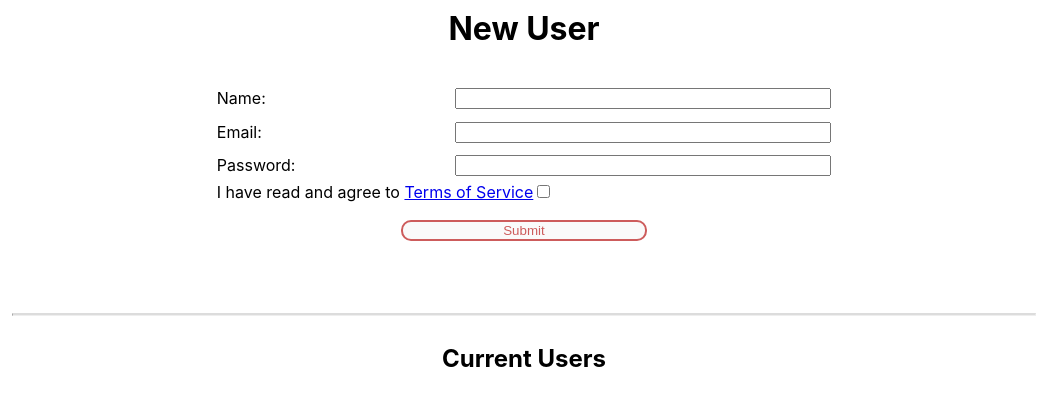
Test: Form validation › Validates Tos
Expected: the text "Terms of service must be accepted" is not shown
Click the checkbox named "tos" at [544, 192], box [537,185,550,198]
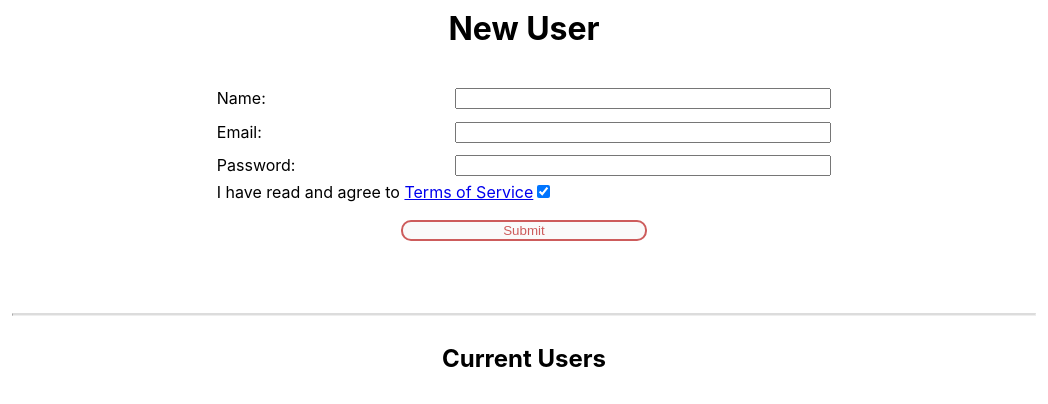
Click the checkbox named "tos" at [544, 192], box [537,185,550,198]
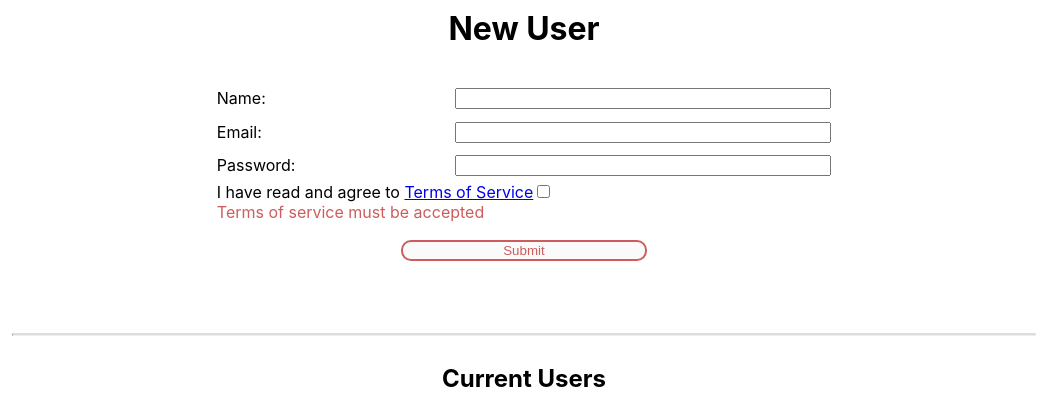
Expected: the text "Terms of service must be accepted" is shown, [217,202,484,222]
